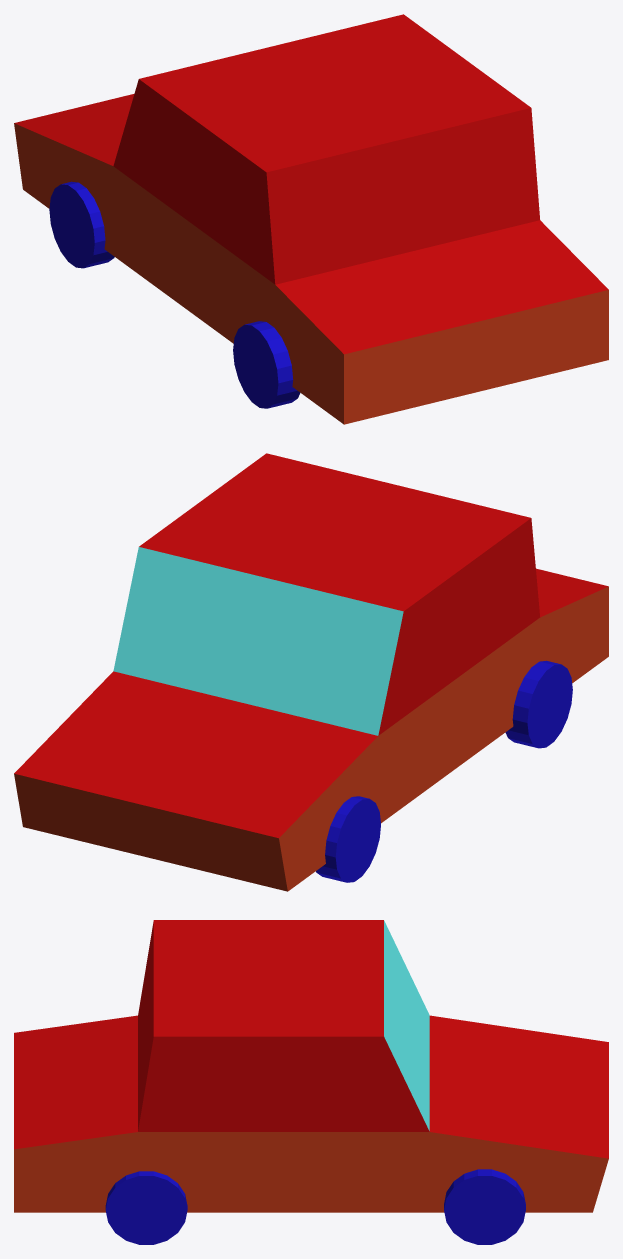
File: car.obj
The picture shows the model from 3 angles, top to bottom: view 1: azimuth 30°, elevation 25°; view 2: azimuth 150°, elevation 25°; view 3: azimuth 270°, elevation 25°; orthographic projection. The views are drawn at different scales.
Visible parts, largest first — view 1: Car_04; view 2: Car_04; view 3: Car_04.
Boxes of the visible parts, x1,y1,x2,y2 form: Car_04: (14, 14, 608, 424); Car_04: (14, 453, 608, 891); Car_04: (14, 920, 608, 1244).
Bounding box in the file's own units: 39.39 × 28.93 × 76.54.
